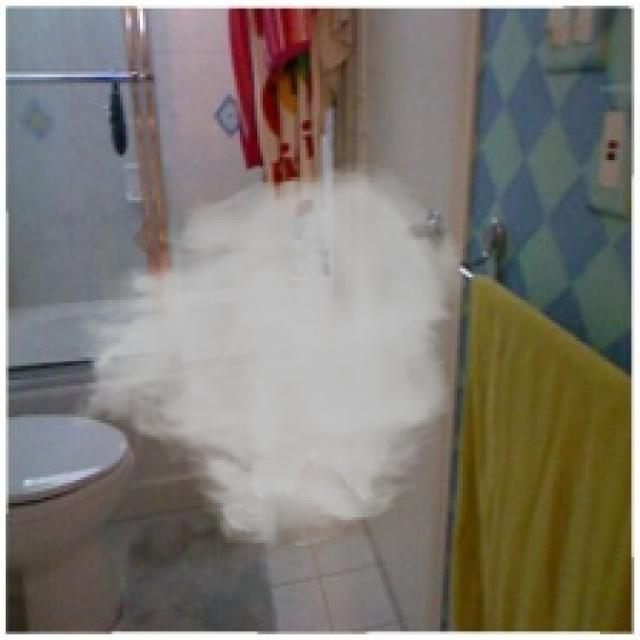Smoke: (62, 159, 472, 552)
